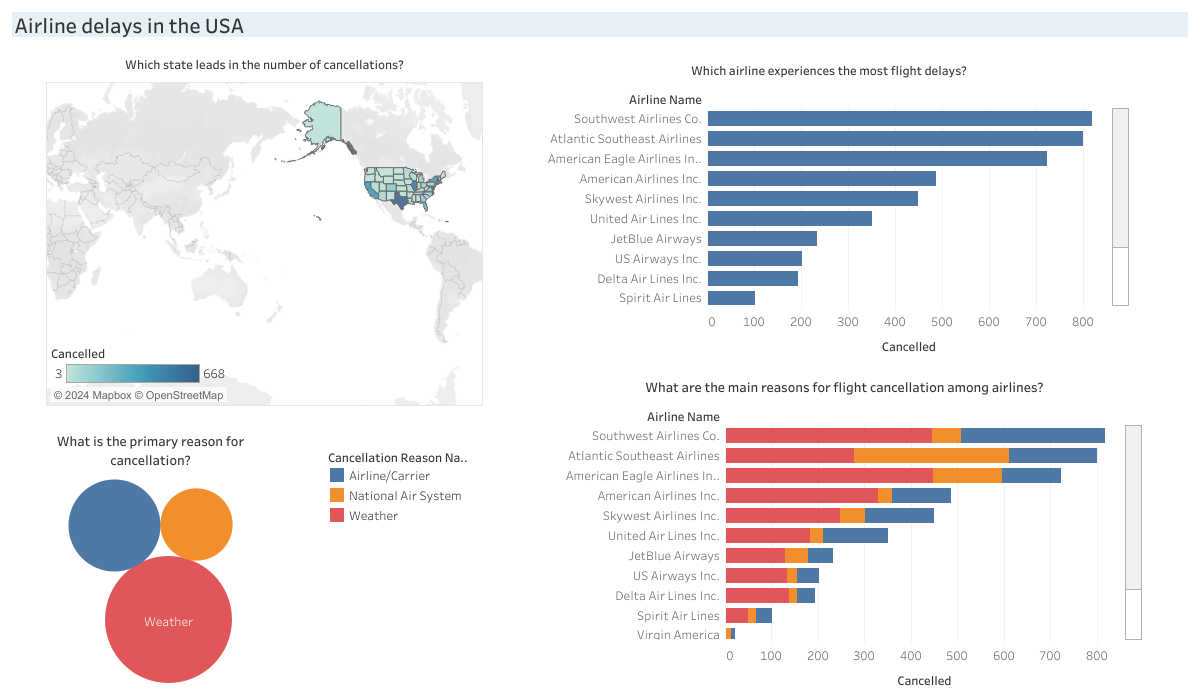

The page's visual inventory and layout, read from the dashboard file:
{"tool":"tableau","page":{"name":"Dashboard 1","canvas":[1200,700],"ordinal":0},"visuals":[{"type":"title","box":[8,8,1184,33]},{"type":"worksheet","title":"Sheet 1","mark":"Automatic","box":[46,49,437,357]},{"type":"worksheet","title":"Sheet 3","mark":"Automatic","rows":["Airline Name"],"cols":["Cancelled"],"box":[547,55,582,307]},{"type":"legend","title":"Sheet 1","param":"[federated.1gmg9dh06f00ou1855h6q1hf3ma5].[sum:Cancelled:qk]","box":[51,340,179,59]},{"type":"worksheet","title":"Sheet 4","mark":"Automatic","rows":["Airline Name"],"cols":["Cancelled"],"box":[565,371,577,325]},{"type":"worksheet","title":"Sheet 2","mark":"Circle","box":[48,425,427,258]},{"type":"legend","title":"Sheet 2","param":"[federated.1gmg9dh06f00ou1855h6q1hf3ma5].[sum:Cancelled:qk]","box":[448,435,160,233]},{"type":"legend","title":"Sheet 2","param":"[federated.1gmg9dh06f00ou1855h6q1hf3ma5].[none:Cancellation Reason Name:nk]","box":[327,446,145,83]}]}

Visuals, with their boxes in screenshot pixels (x1, y1, x2, y2), scaled from the page's 1200x700 canvas onto the 1200x700 screenshot:
title: {"left": 8, "top": 8, "right": 1192, "bottom": 41}
"Sheet 1" worksheet: {"left": 46, "top": 49, "right": 483, "bottom": 406}
"Sheet 3" worksheet: {"left": 547, "top": 55, "right": 1129, "bottom": 362}
"Sheet 1" legend: {"left": 51, "top": 340, "right": 230, "bottom": 399}
"Sheet 4" worksheet: {"left": 565, "top": 371, "right": 1142, "bottom": 696}
"Sheet 2" worksheet (Circle marks): {"left": 48, "top": 425, "right": 475, "bottom": 683}
"Sheet 2" legend: {"left": 448, "top": 435, "right": 608, "bottom": 668}
"Sheet 2" legend: {"left": 327, "top": 446, "right": 472, "bottom": 529}
